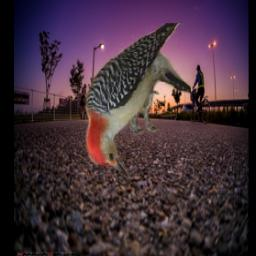Woodpecker: (81, 24, 191, 180)
